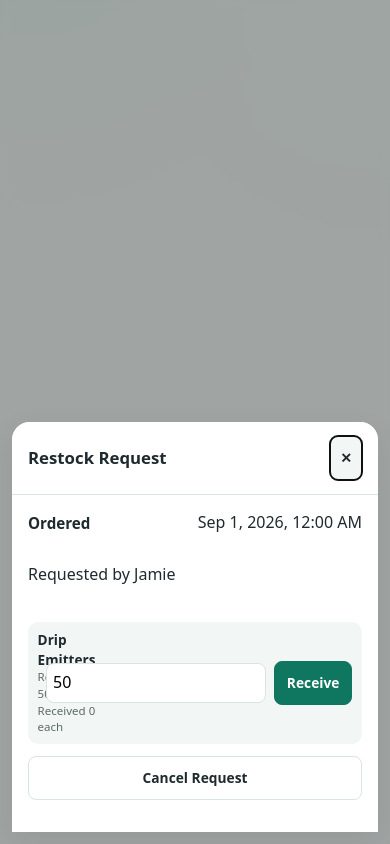
Test: RestockRequestDetailSheet (receive) › blocks receiving more than what remains on the line, client-side
The image size is (390, 844).
Expected: the text "Drip Emitters" is shown, 38,630 -> 96,669
Replace the text in the number field showing "50" with "999" at (156, 683), box 46,663 -> 266,703
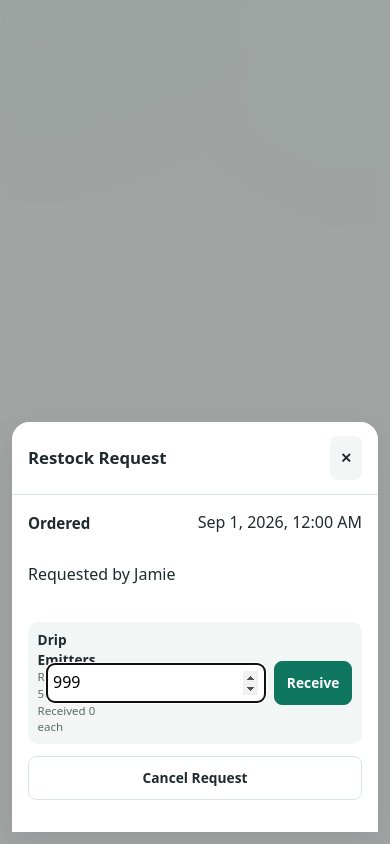
Click the button "Receive" at (313, 683), box 274,661 -> 352,705
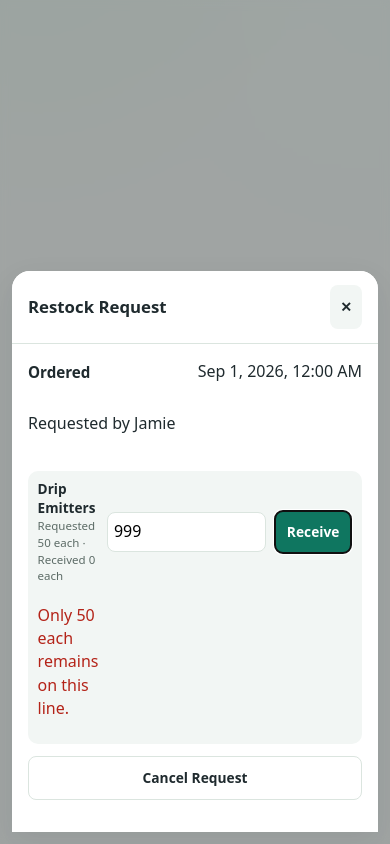
Result: the text "Only 50 each remains on this line." is shown at 38,604 -> 98,720
